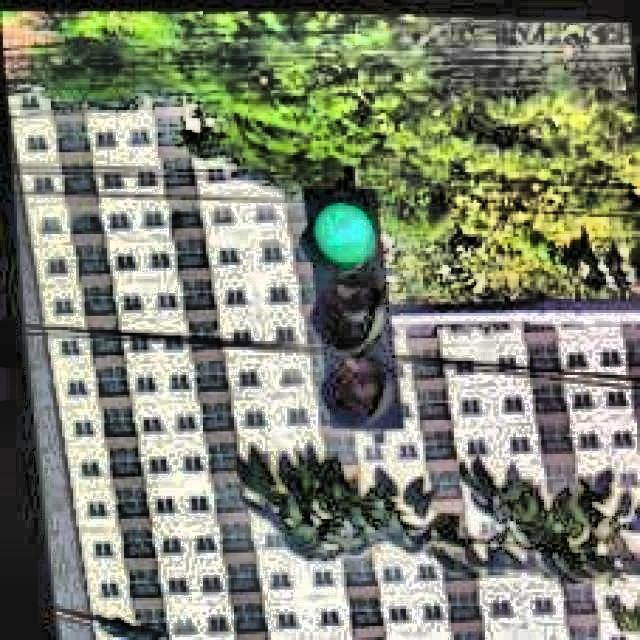green: (299, 185, 402, 428)
